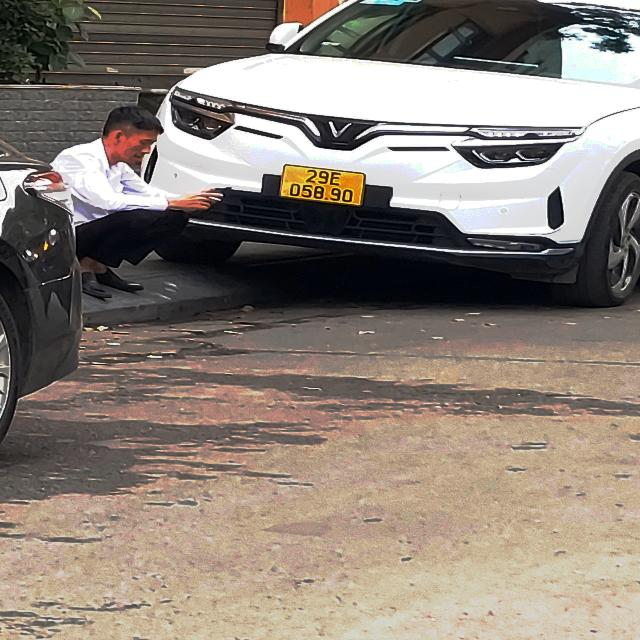license_plate: (280, 166, 366, 207)
